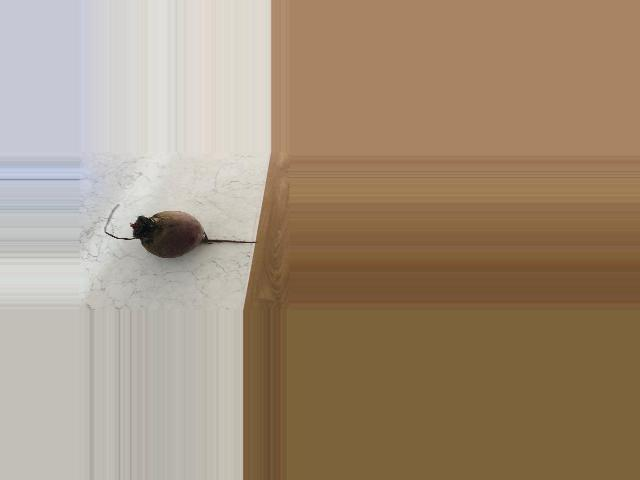beet: (105, 204, 259, 258)
